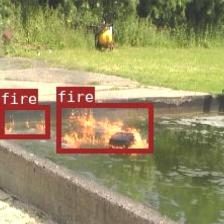fire: (56, 102, 152, 152), (0, 105, 48, 137)
